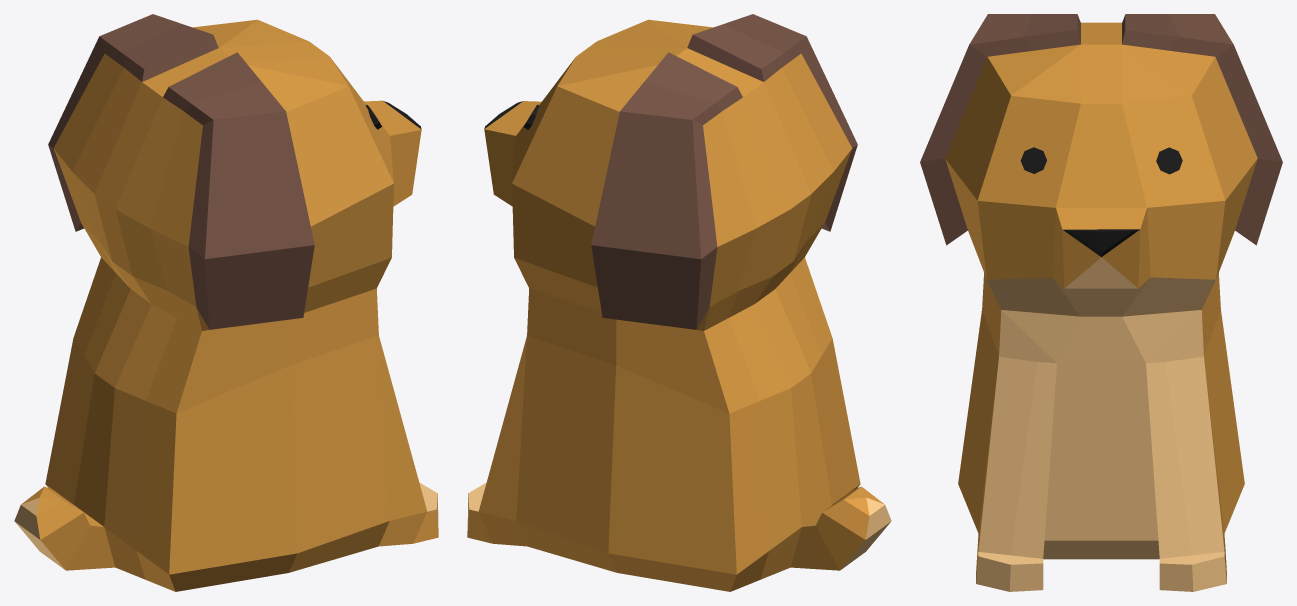
3 views of the same model, side by side, from view 1: azimuth 30°, elevation 25°; view 2: azimuth 150°, elevation 25°; view 3: azimuth 270°, elevation 25° (orthographic).
Parts seen in each view (by area): view 1: Puppy_Cube.029; view 2: Puppy_Cube.029; view 3: Puppy_Cube.029.
Part boxes in pixels (<box>): Puppy_Cube.029: <box>14,14,438,591</box>; Puppy_Cube.029: <box>467,14,891,591</box>; Puppy_Cube.029: <box>920,14,1282,591</box>.
Bounding box in the file's own units: 0.8192 × 1 × 0.6832.
